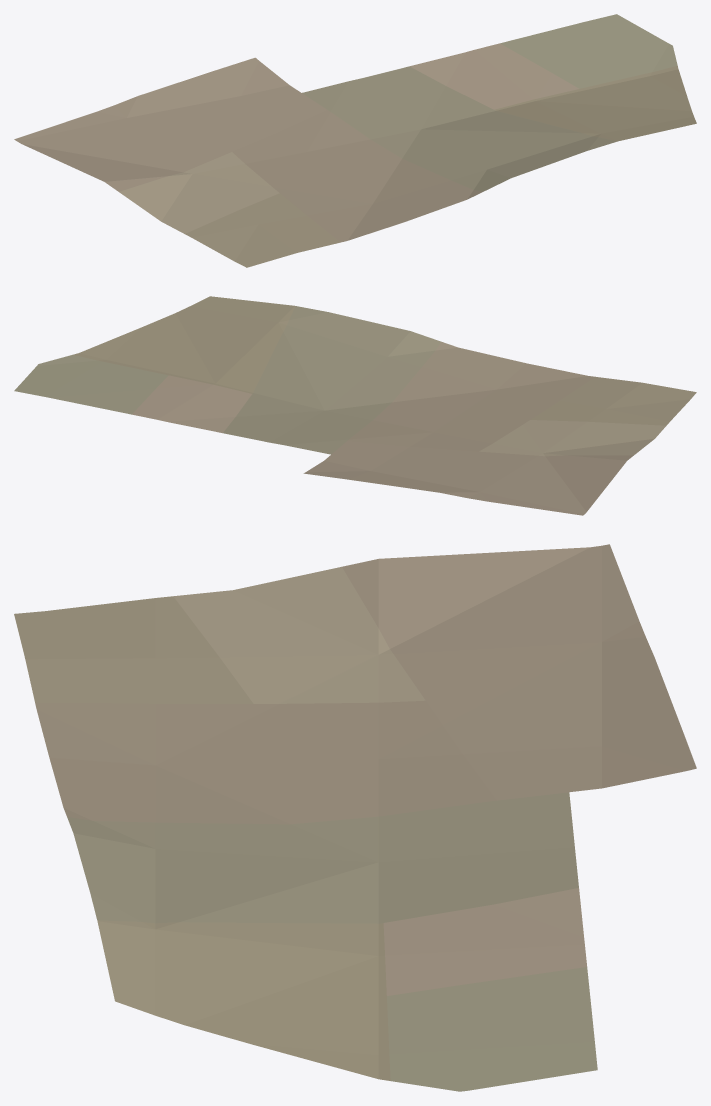
The model's file is farm_-3_8_soil.glb.
The picture shows the model from 3 angles, top to bottom: view 1: azimuth 30°, elevation 25°; view 2: azimuth 150°, elevation 25°; view 3: azimuth 270°, elevation 25°; orthographic projection. The views are drawn at different scales.
Visible parts, largest first — view 1: geometry_0; view 2: geometry_0; view 3: geometry_0.
Part boxes in pixels (x1,y1,x2,y2): geometry_0: (14,14,696,267); geometry_0: (14,296,696,515); geometry_0: (14,544,696,1091).
Bounding box in the file's own units: 430 × 18.32 × 245.
